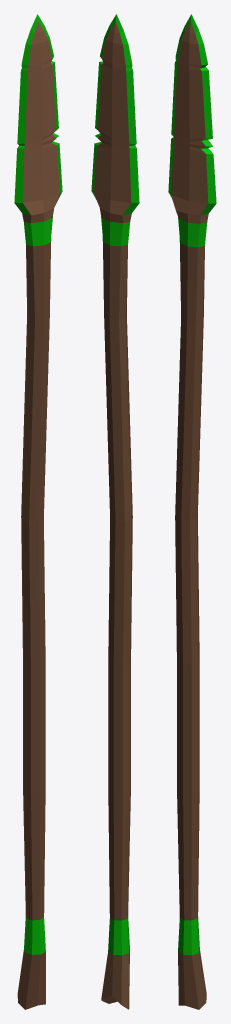
Rendered from Spear.glb.
3 views of the same model, side by side, from view 1: azimuth 30°, elevation 25°; view 2: azimuth 150°, elevation 25°; view 3: azimuth 330°, elevation 25° (orthographic).
Parts seen in each view (by area): view 1: Spear; view 2: Spear; view 3: Spear.
Part boxes in pixels (<box>): Spear: <box>14,14,62,1009</box>; Spear: <box>91,14,139,1009</box>; Spear: <box>168,14,216,1009</box>.
Bounding box in the file's own units: 0.4918 × 9.7 × 0.233.
